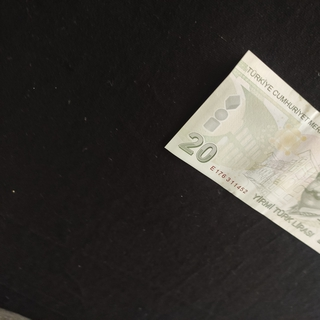20TLBack: (163, 49, 320, 266)
